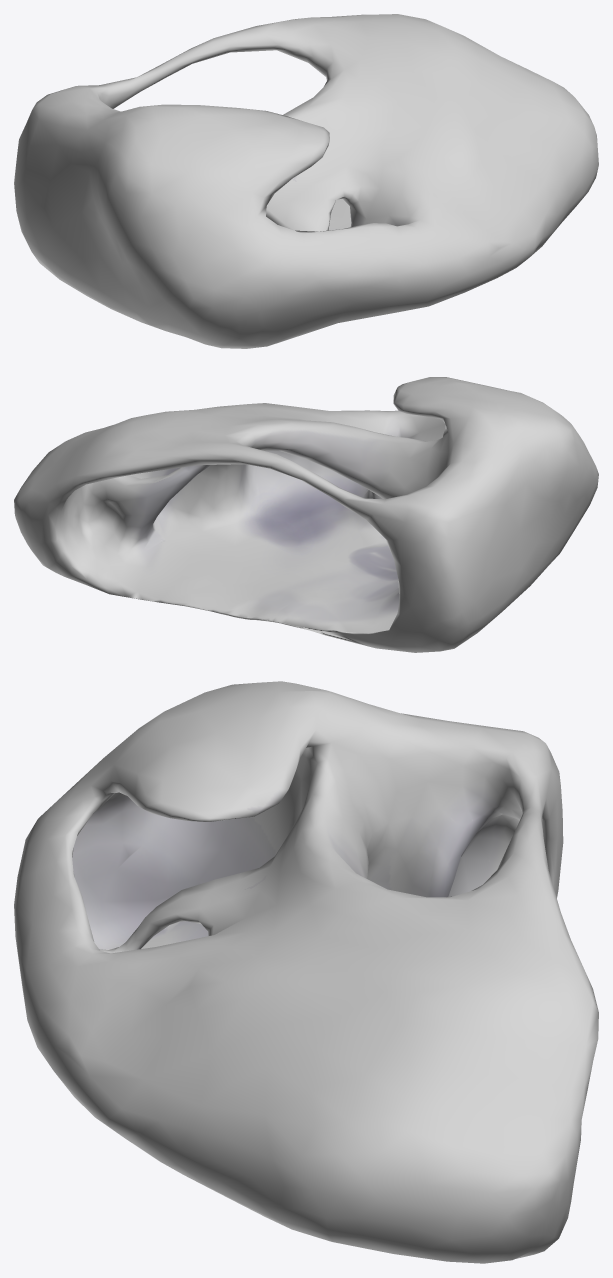
The model's file is Room002.fbx.
3 renders of one model, top to bottom at view 1: azimuth 30°, elevation 25°; view 2: azimuth 150°, elevation 25°; view 3: azimuth 270°, elevation 25°, orthographic. The views are drawn at different scales.
Visible parts, largest first — view 1: Room.002; view 2: Room.002; view 3: Room.002.
Part boxes in pixels (x1=…): Room.002: x1=14, y1=14, x2=598, y2=348; Room.002: x1=14, y1=377, x2=598, y2=652; Room.002: x1=14, y1=681, x2=598, y2=1263.
Size of the model in its own units: 119 by 45.89 by 82.73.
Materials: 1 (1 with a texture image).
